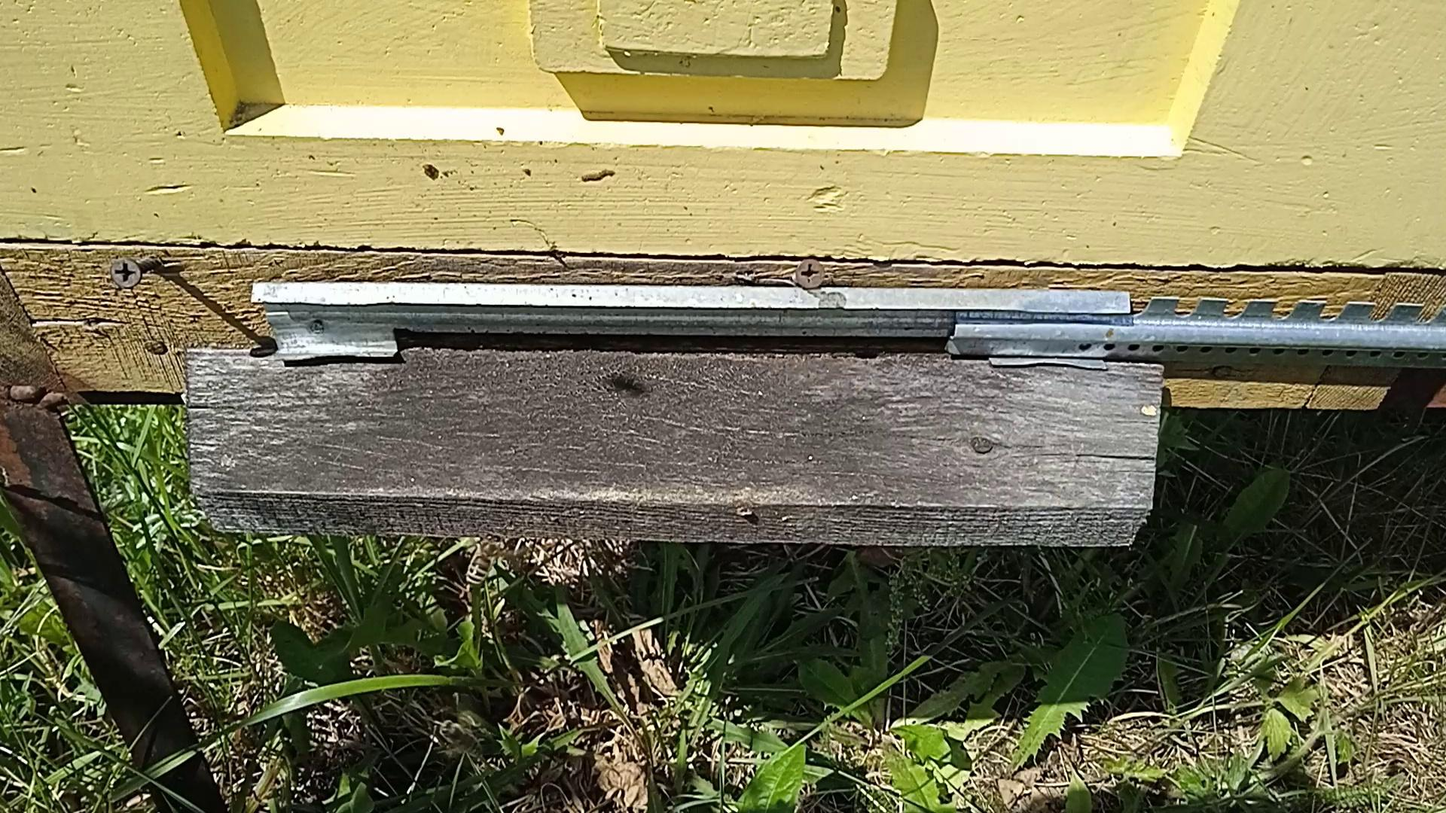worker-bee: (467, 531, 507, 586)
